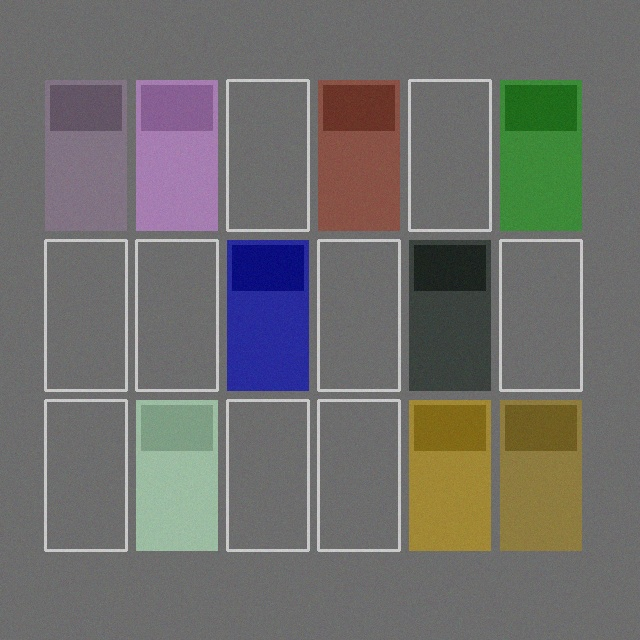space-empty: (227, 80, 308, 230), (409, 80, 490, 230), (45, 240, 126, 390), (136, 240, 217, 390), (318, 240, 399, 390), (500, 240, 581, 390), (45, 400, 126, 550), (227, 400, 308, 550), (318, 400, 399, 550)
space-occupied: (45, 80, 126, 230), (136, 80, 217, 230), (318, 80, 399, 230), (500, 80, 581, 230), (227, 240, 308, 390), (409, 240, 490, 390), (136, 400, 217, 550), (409, 400, 490, 550), (500, 400, 581, 550)
